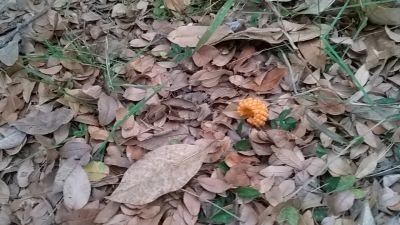eggs: (237, 98, 267, 126)
